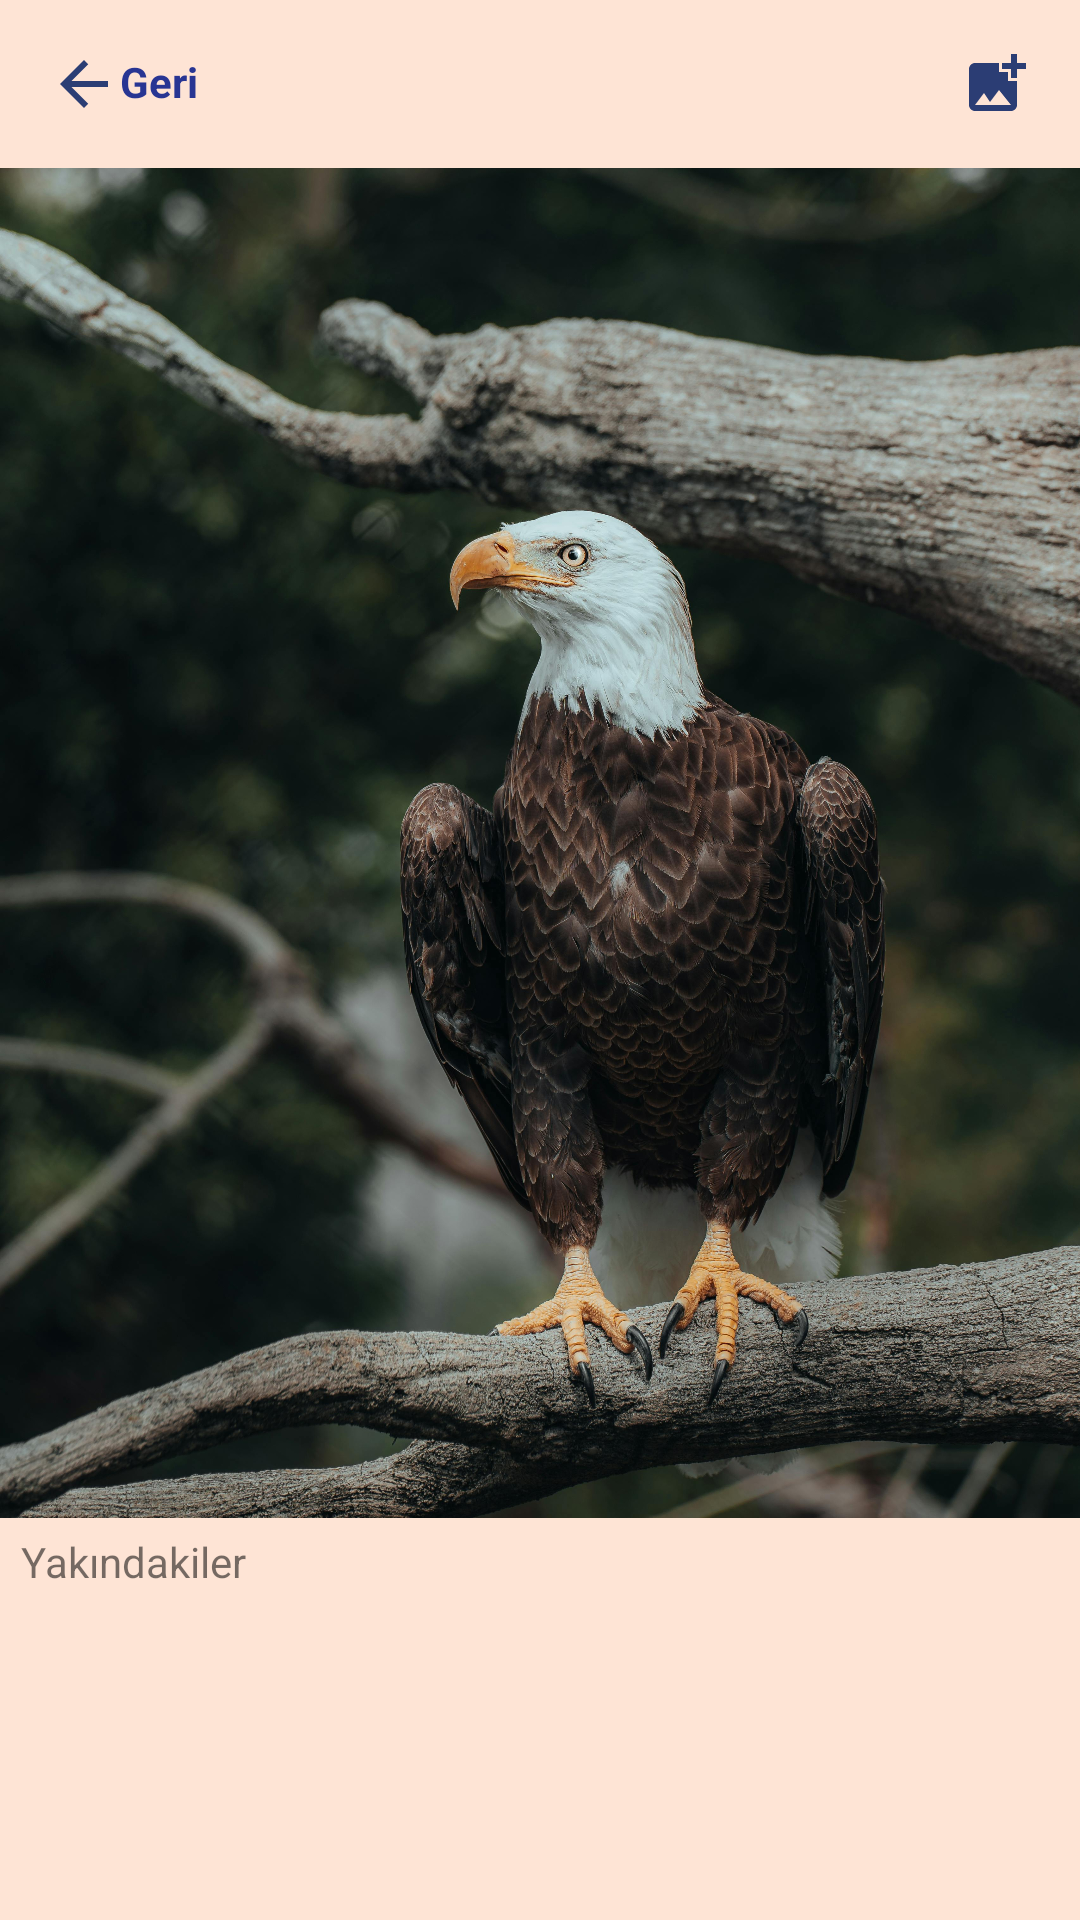

Screen size 1080*1920. Icon name, then its box in pixels as (x1, y1, x2, y2):
add photo alternate: (969, 54, 1026, 111)
arrow back: (60, 60, 108, 108)
